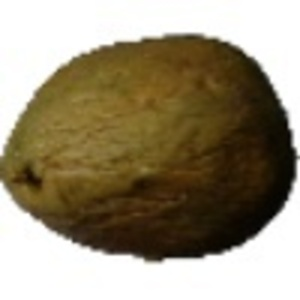mamão: (10, 28, 295, 249)
